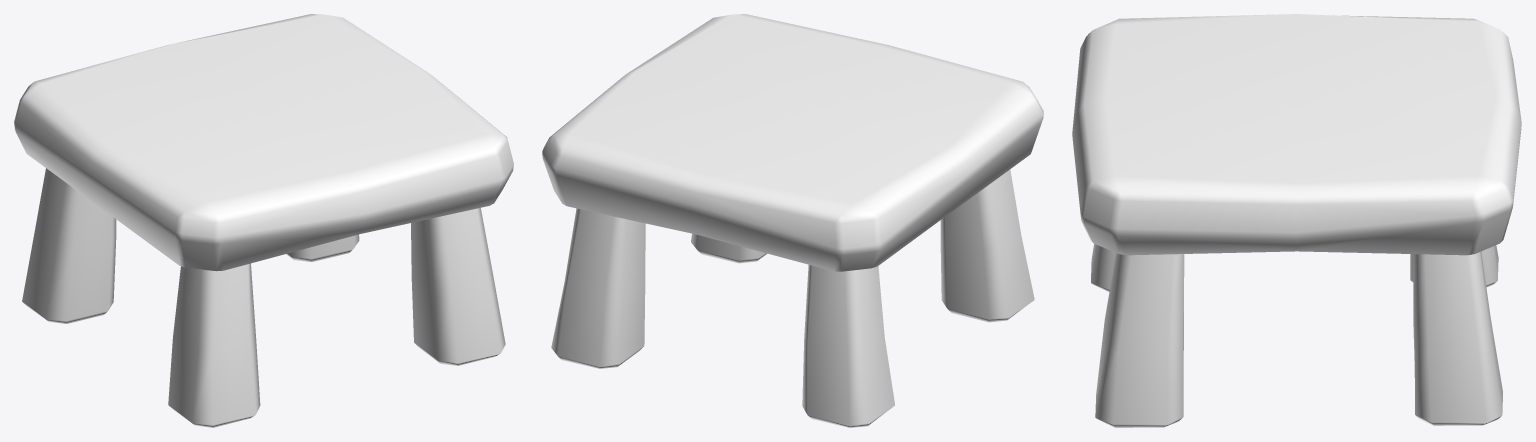
The model's file is P_StoneTableSmall.glb.
3 renders of one model, left to right at view 1: azimuth 30°, elevation 25°; view 2: azimuth 150°, elevation 25°; view 3: azimuth 270°, elevation 25°, orthographic. The views are drawn at different scales.
Visible parts, largest first — view 1: P_StoneTableSmall; view 2: P_StoneTableSmall; view 3: P_StoneTableSmall.
Part boxes in pixels (x1,y1,x2,y2): P_StoneTableSmall: (14, 14, 513, 427); P_StoneTableSmall: (542, 14, 1043, 427); P_StoneTableSmall: (1072, 14, 1521, 427).
Size of the model in its own units: 1.05 by 0.6237 by 1.04.
Materials: 1 (1 with a texture image).
